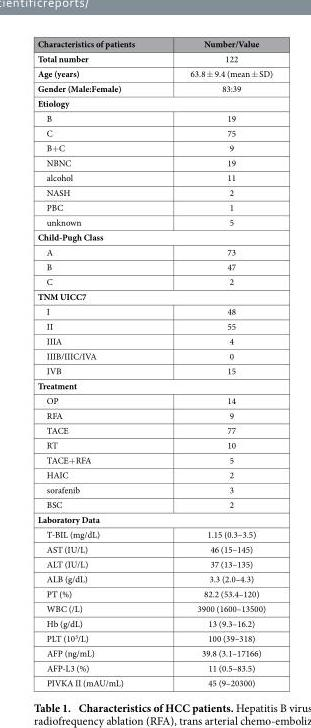table: (36, 37, 272, 688)
table column: (36, 37, 161, 688), (161, 37, 272, 688)
table column header: (36, 37, 272, 50)
table projected row header: (36, 95, 272, 110), (36, 229, 272, 244), (36, 288, 272, 303), (36, 377, 272, 392), (36, 511, 272, 526)
table row: (36, 50, 272, 65), (36, 65, 272, 80), (36, 80, 272, 95), (36, 95, 272, 110), (36, 110, 272, 125), (36, 125, 272, 140), (36, 154, 272, 169), (36, 169, 272, 184), (36, 184, 272, 199), (36, 199, 272, 214), (36, 214, 272, 229), (36, 229, 272, 244), (36, 244, 272, 259), (36, 273, 272, 288), (36, 288, 272, 303), (36, 303, 272, 318), (36, 318, 272, 333), (36, 333, 272, 348), (36, 348, 272, 363), (36, 377, 272, 392), (36, 392, 272, 407), (36, 407, 272, 422), (36, 422, 272, 437), (36, 437, 272, 452), (36, 452, 272, 467), (36, 481, 272, 496), (36, 496, 272, 511), (36, 511, 272, 526), (36, 526, 272, 541), (36, 541, 272, 556), (36, 556, 272, 571), (36, 585, 272, 600), (36, 600, 272, 615), (36, 615, 272, 630), (36, 630, 272, 645), (36, 645, 272, 660), (36, 660, 272, 675), (36, 140, 272, 154), (36, 259, 272, 273), (36, 363, 272, 377), (36, 467, 272, 481), (36, 571, 272, 585), (36, 37, 272, 50), (36, 675, 272, 688)
